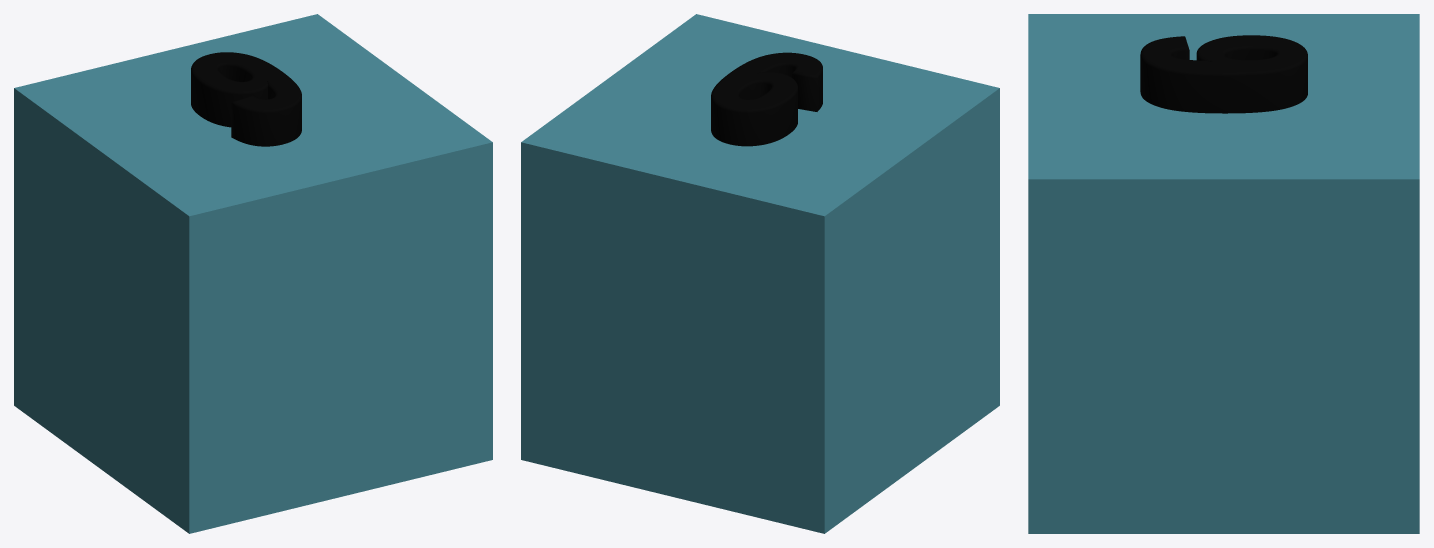
File: level9.fbx
3 views of the same model, side by side, from view 1: azimuth 30°, elevation 25°; view 2: azimuth 150°, elevation 25°; view 3: azimuth 270°, elevation 25° (orthographic). The views are drawn at different scales.
Visible parts, largest first — view 1: Text; view 2: Text; view 3: Text.
Part boxes in pixels (left/top/right/bottom): Text: left=14, top=14, right=492, bottom=533; Text: left=521, top=14, right=999, bottom=533; Text: left=1028, top=14, right=1419, bottom=533.
Size of the model in its own units: 200 by 223 by 200.
